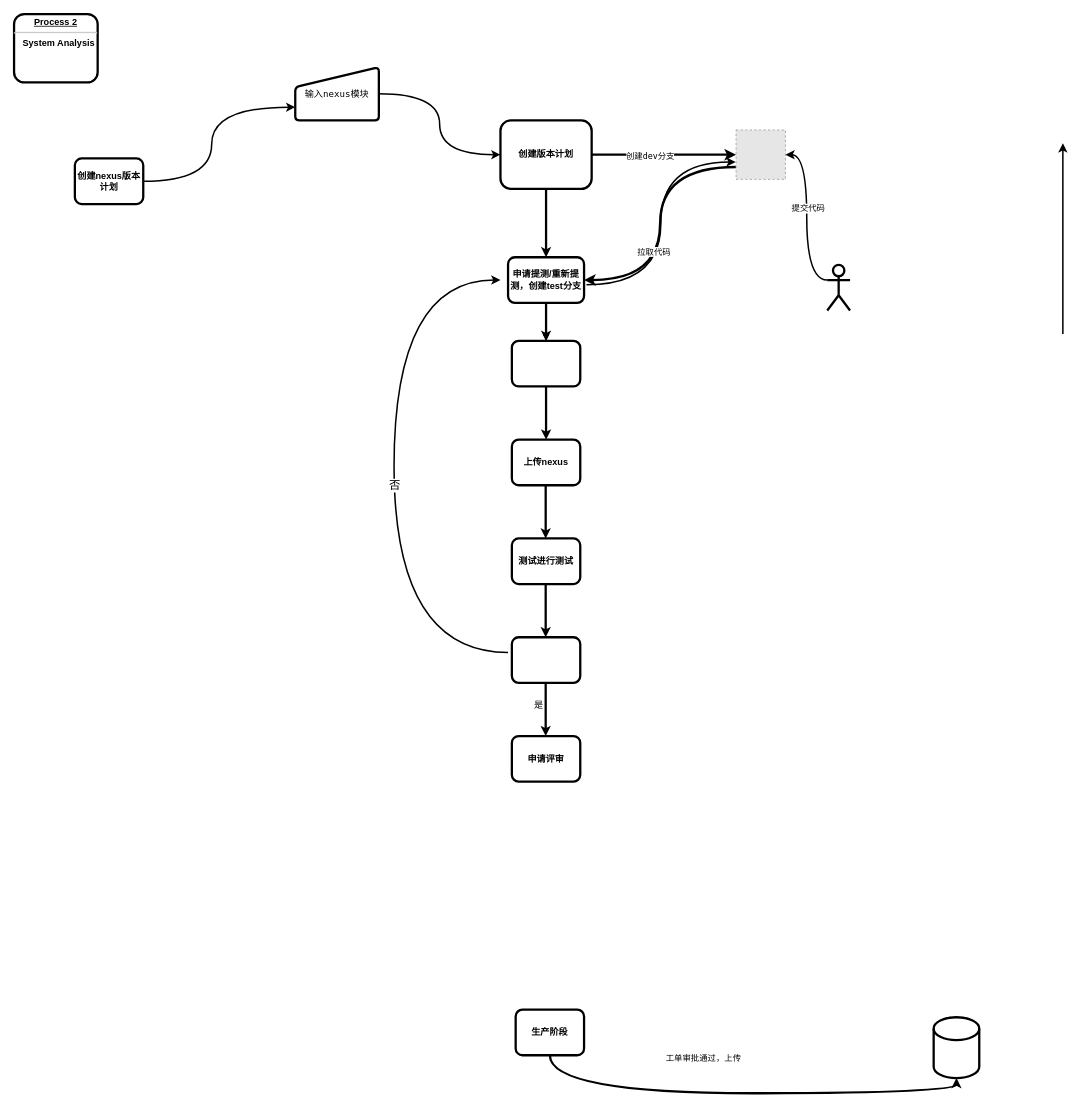
Some shapes in this 1080 by 1107 pixel diagram are drawn without their labels. Grey dashed boxes stand in for pictures. Each missing label, with the centre of its shape:
"Nexus" goes at point 956,1047.
"修改版本号" goes at point 545,363.
"开发" goes at point 838,287.
"测试是否通过" goes at point 545,660.
